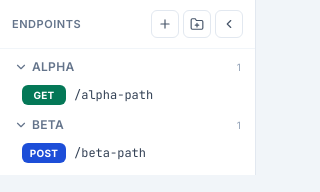
Scenario: clicking a group header collapses and re-expands its endpoints
Check: the text "/alpha-path" is shown, box [74,87,153,103]
Check: the text "/beta-path" is shown, box [74,145,146,161]
Click the button "alpha 1".
click(128, 67)  # box [6,55,249,79]
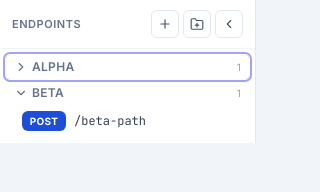
Check: the text "/beta-path" is shown, box [74,113,146,129]
Check: the button "/alpha-path" is gone
# Click again to re-expand
Click the button "alpha 1".
click(128, 67)  # box [6,55,249,79]
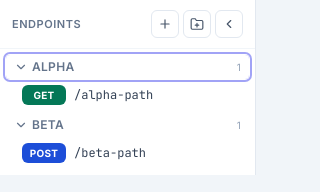
Check: the text "/alpha-path" is shown, box [74,87,153,103]
